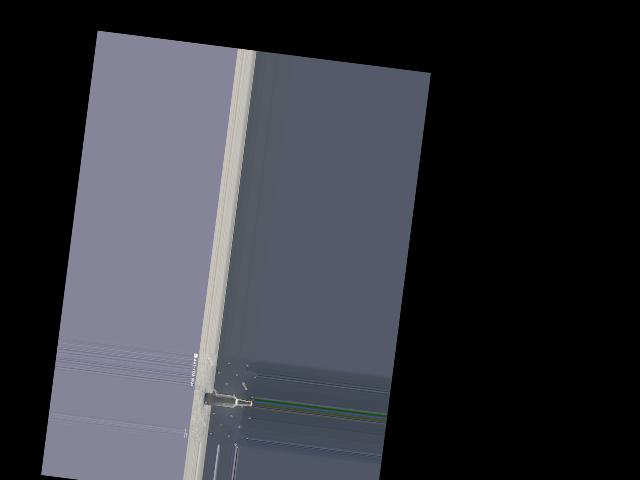beer: (203, 393, 252, 410)
